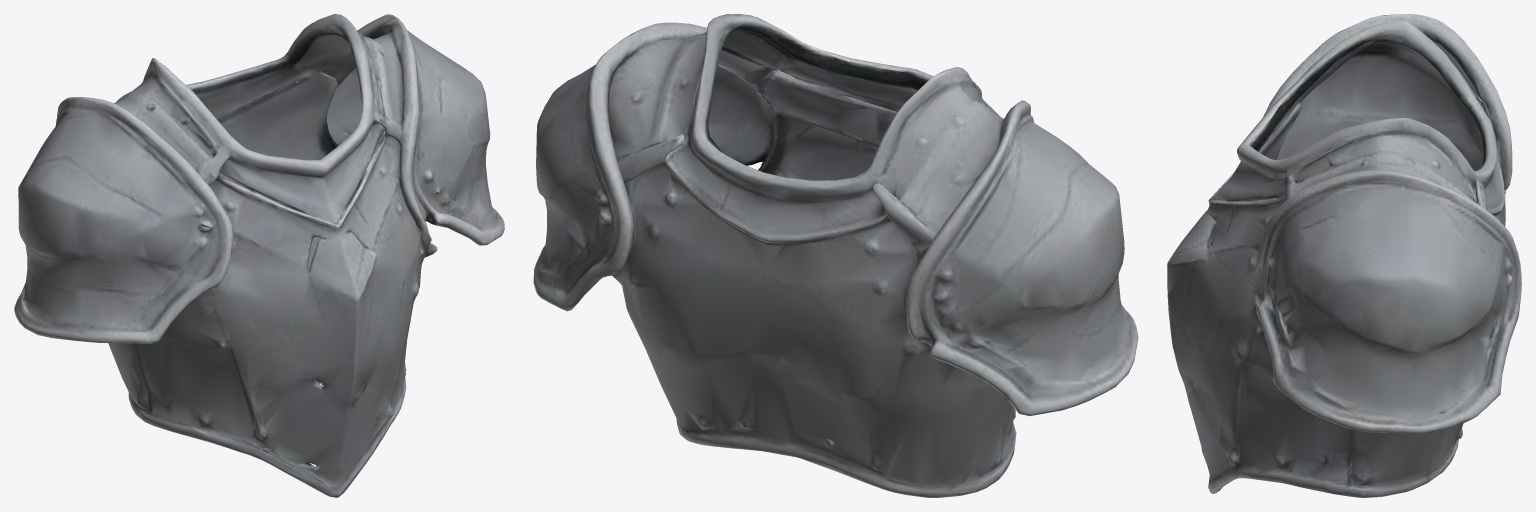
File: comum-peitoral.glb
3 views of the same model, side by side, from view 1: azimuth 30°, elevation 25°; view 2: azimuth 150°, elevation 25°; view 3: azimuth 270°, elevation 25° (orthographic). The views are drawn at different scales.
Visible parts, largest first — view 1: tripo_node_69d4a0f7-847c-4b71-9d22-d693089e0b8f; view 2: tripo_node_69d4a0f7-847c-4b71-9d22-d693089e0b8f; view 3: tripo_node_69d4a0f7-847c-4b71-9d22-d693089e0b8f.
Boxes of the visible parts, x1,y1,x2,y2 form: tripo_node_69d4a0f7-847c-4b71-9d22-d693089e0b8f: [14, 14, 504, 497]; tripo_node_69d4a0f7-847c-4b71-9d22-d693089e0b8f: [533, 14, 1138, 497]; tripo_node_69d4a0f7-847c-4b71-9d22-d693089e0b8f: [1167, 14, 1521, 497].
Bounding box in the file's own units: 0.9783 × 0.7945 × 0.6022.
Materials: 1 (1 with a texture image).
